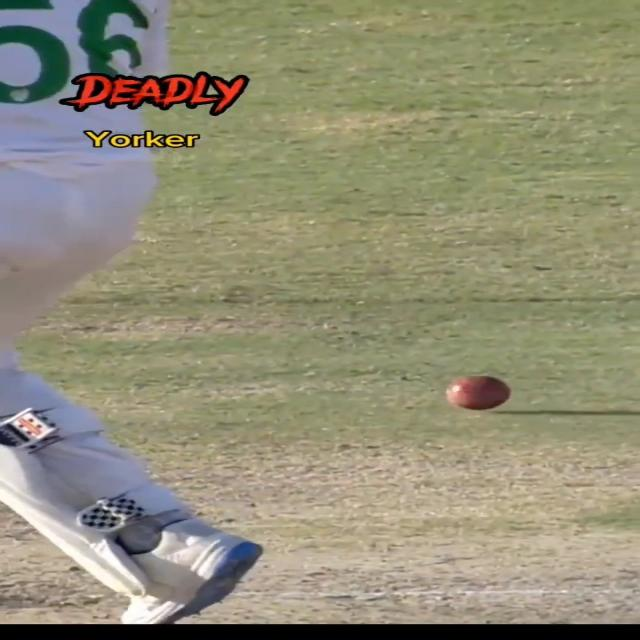Cricket ball: (442, 373, 514, 413)
